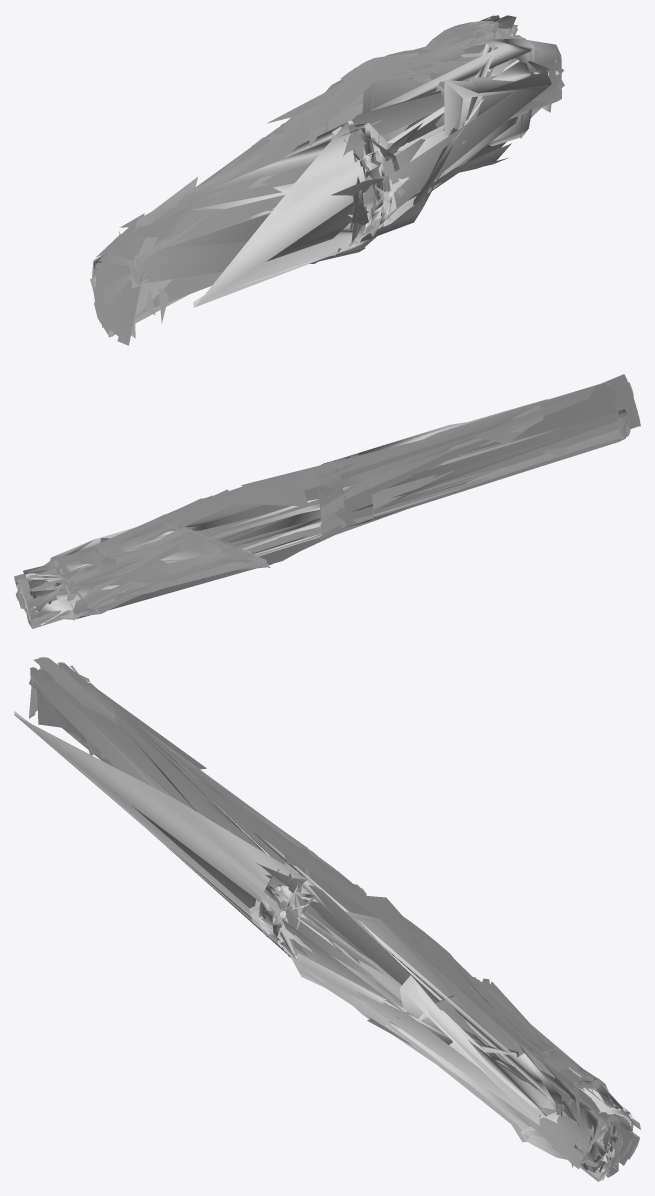
The picture shows the model from 3 angles, top to bottom: view 1: azimuth 30°, elevation 25°; view 2: azimuth 150°, elevation 25°; view 3: azimuth 270°, elevation 25°; orthographic projection. The views are drawn at different scales.
Visible parts, largest first — view 1: OWLS_High1_Steel_0; view 2: OWLS_High1_Steel_0; view 3: OWLS_High1_Steel_0.
Boxes of the visible parts, x1=… form: OWLS_High1_Steel_0: x1=90, y1=14, x2=564, y2=345; OWLS_High1_Steel_0: x1=14, y1=374, x2=640, y2=628; OWLS_High1_Steel_0: x1=14, y1=657, x2=640, y2=1181.
Size of what is drawn, in the model's own units: 1.52 by 0.6535 by 1.41.
